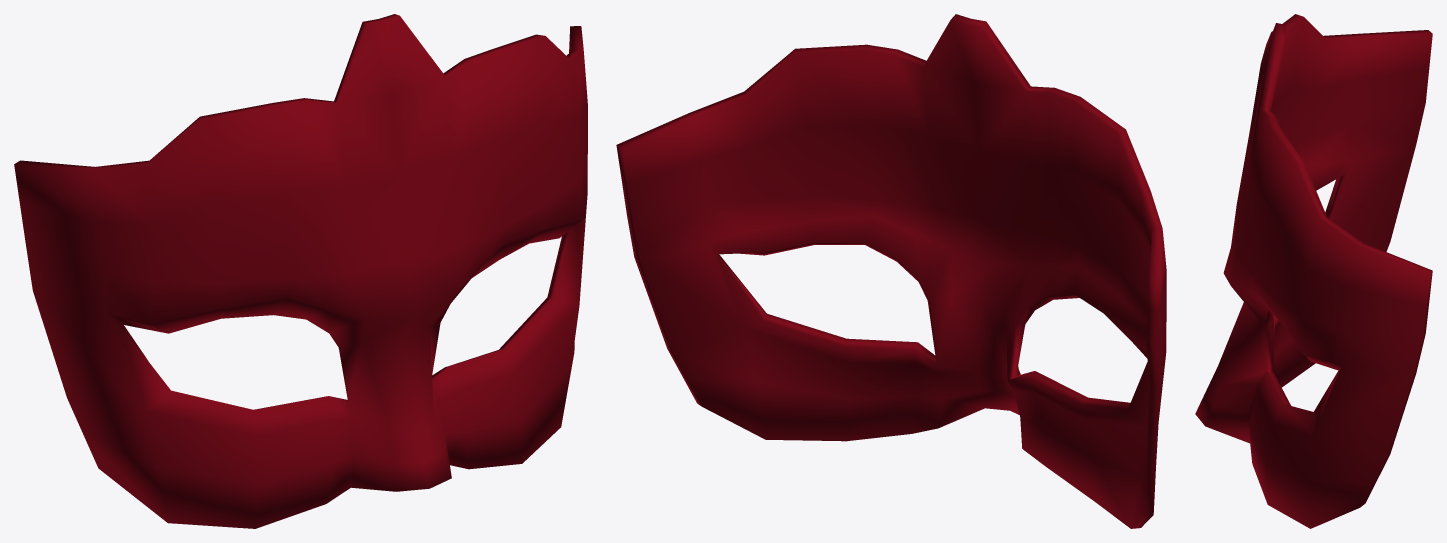
The model's file is royal_mask.fbx.
3 renders of one model, left to right at view 1: azimuth 30°, elevation 25°; view 2: azimuth 150°, elevation 25°; view 3: azimuth 270°, elevation 25°, orthographic. The views are drawn at different scales.
Visible parts, largest first — view 1: RoyalMask; view 2: RoyalMask; view 3: RoyalMask.
Boxes of the visible parts, box(x1,y1,x2,y2) form: RoyalMask: box(14, 14, 587, 528); RoyalMask: box(616, 14, 1166, 528); RoyalMask: box(1195, 14, 1432, 528).
Size of the model in its own units: 14.61 by 11.65 by 6.01.
